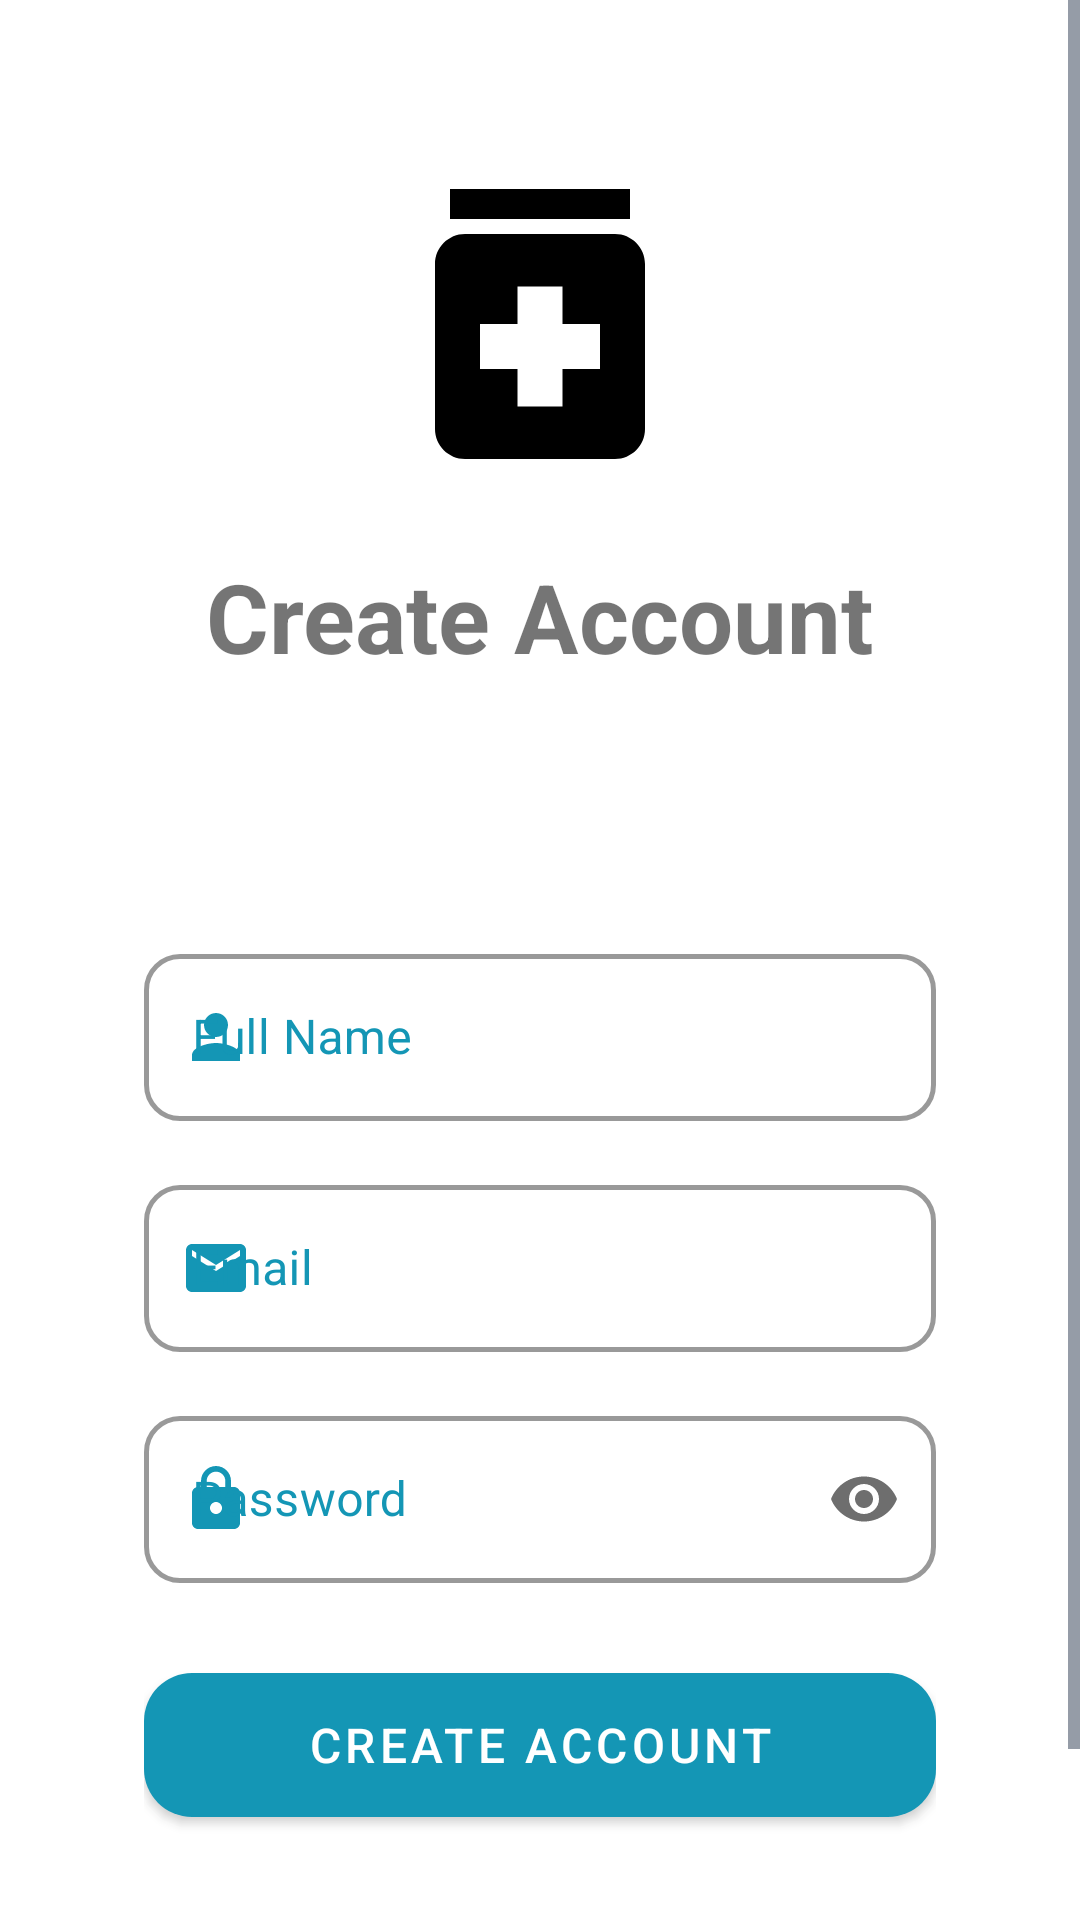

Icons on this 1080 x 1920 Android screen, each with its box as (left=x1, top=y1, right=x2, bottom=y2):
medication: (left=435, top=189, right=645, bottom=459)
